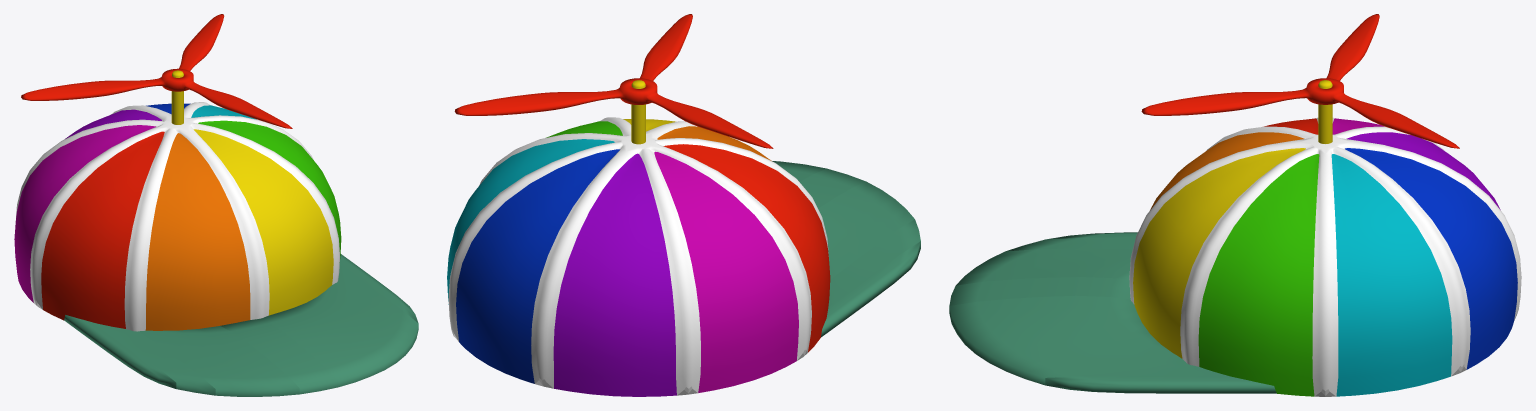
File: SpinnyHat.fbx
3 renders of one model, left to right at view 1: azimuth 30°, elevation 25°; view 2: azimuth 150°, elevation 25°; view 3: azimuth 270°, elevation 25°, orthographic. The views are drawn at different scales.
Visible parts, largest first — view 1: SpinnyHat, SpinnyBlade; view 2: SpinnyHat, SpinnyBlade; view 3: SpinnyHat, SpinnyBlade.
Boxes of the visible parts, x1,y1,x2,y2 form: SpinnyHat: [14, 70, 418, 396]; SpinnyBlade: [21, 14, 292, 128]; SpinnyHat: [447, 80, 920, 396]; SpinnyBlade: [454, 14, 773, 148]; SpinnyHat: [949, 80, 1521, 396]; SpinnyBlade: [1141, 14, 1459, 148].
Size of the model in its own units: 210 by 140 by 307.
